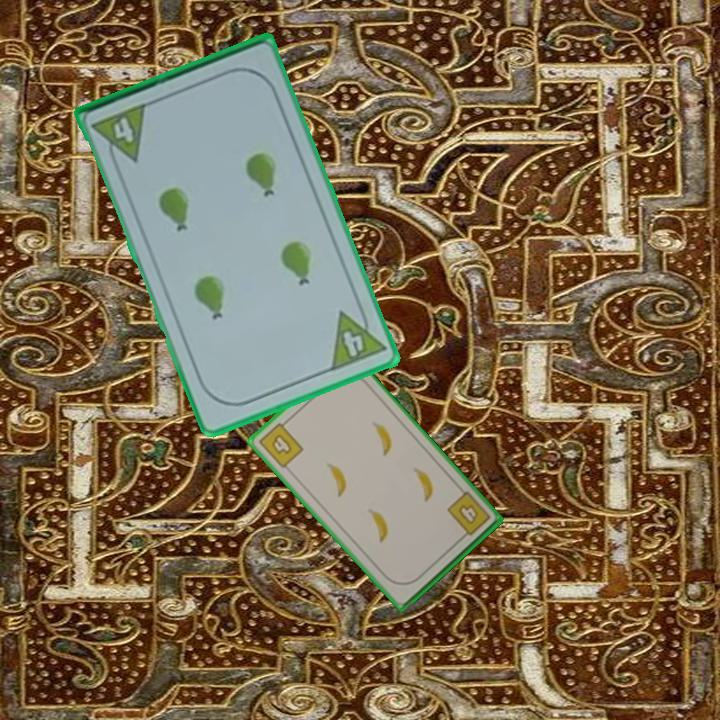4b: (255, 416, 306, 471), (443, 488, 493, 543)
4p: (327, 300, 389, 375), (88, 100, 151, 171)
